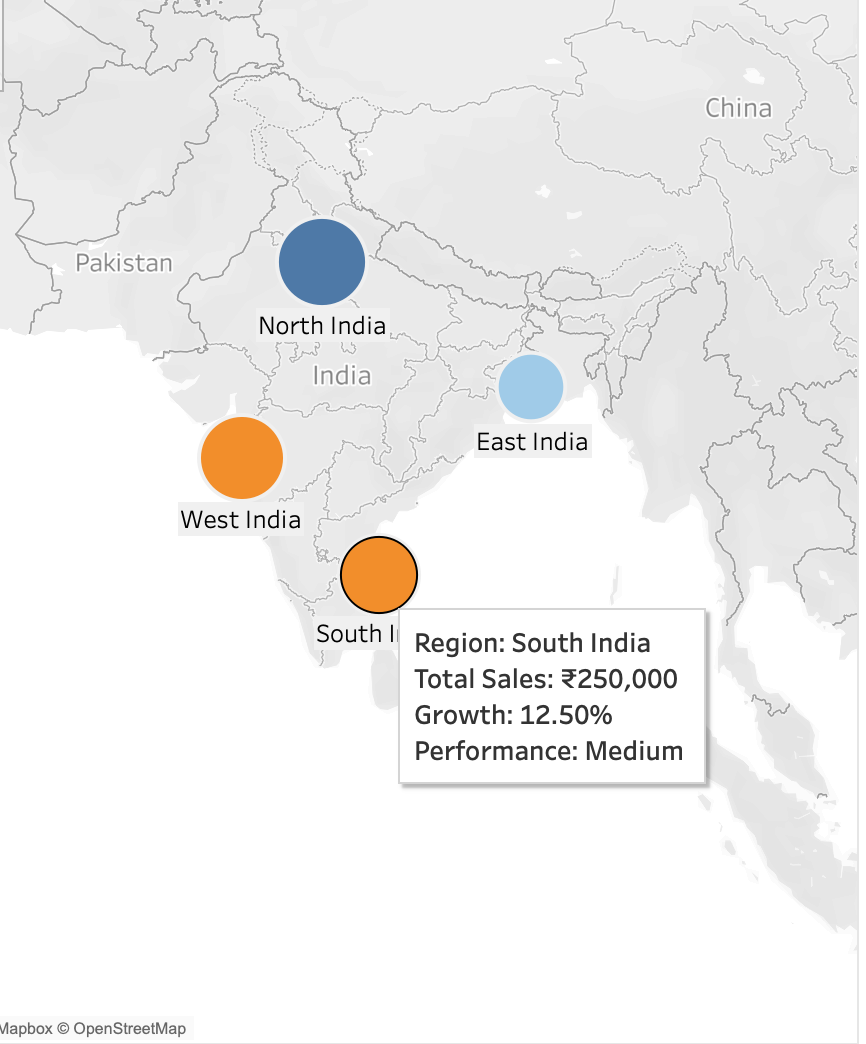

The dashboard page shown, as its layout file describes it:
{"tool":"tableau","page":{"name":"Dashboard 1","canvas":[650,860],"ordinal":0},"visuals":[{"type":"worksheet","title":"Sheet 1","mark":"Automatic","rows":["latitude"],"cols":["longitude"],"box":[8,10.5,474,839]},{"type":"filter","title":"Sheet 1","param":"[federated.1i88gi90s3d9081h2u30714t1l09].[none:sale_date:qk]","box":[482,10.5,160,90.7]},{"type":"legend","title":"Sheet 1","param":"[federated.1i88gi90s3d9081h2u30714t1l09].[none:Calculation_2116128896607264768:n","box":[482,101.2,160,113.1]}]}

Visuals, with their boxes on the page's 650x860 design canvas (x1, y1, x2, y2). These are canvas units, not pixel positions in the 866x1044 screenshot, which may show the page scaled, cropped or inside an application window:
"Sheet 1" worksheet: (x1=8, y1=10, x2=482, y2=850)
"Sheet 1" filter: (x1=482, y1=10, x2=642, y2=101)
"Sheet 1" legend: (x1=482, y1=101, x2=642, y2=214)
